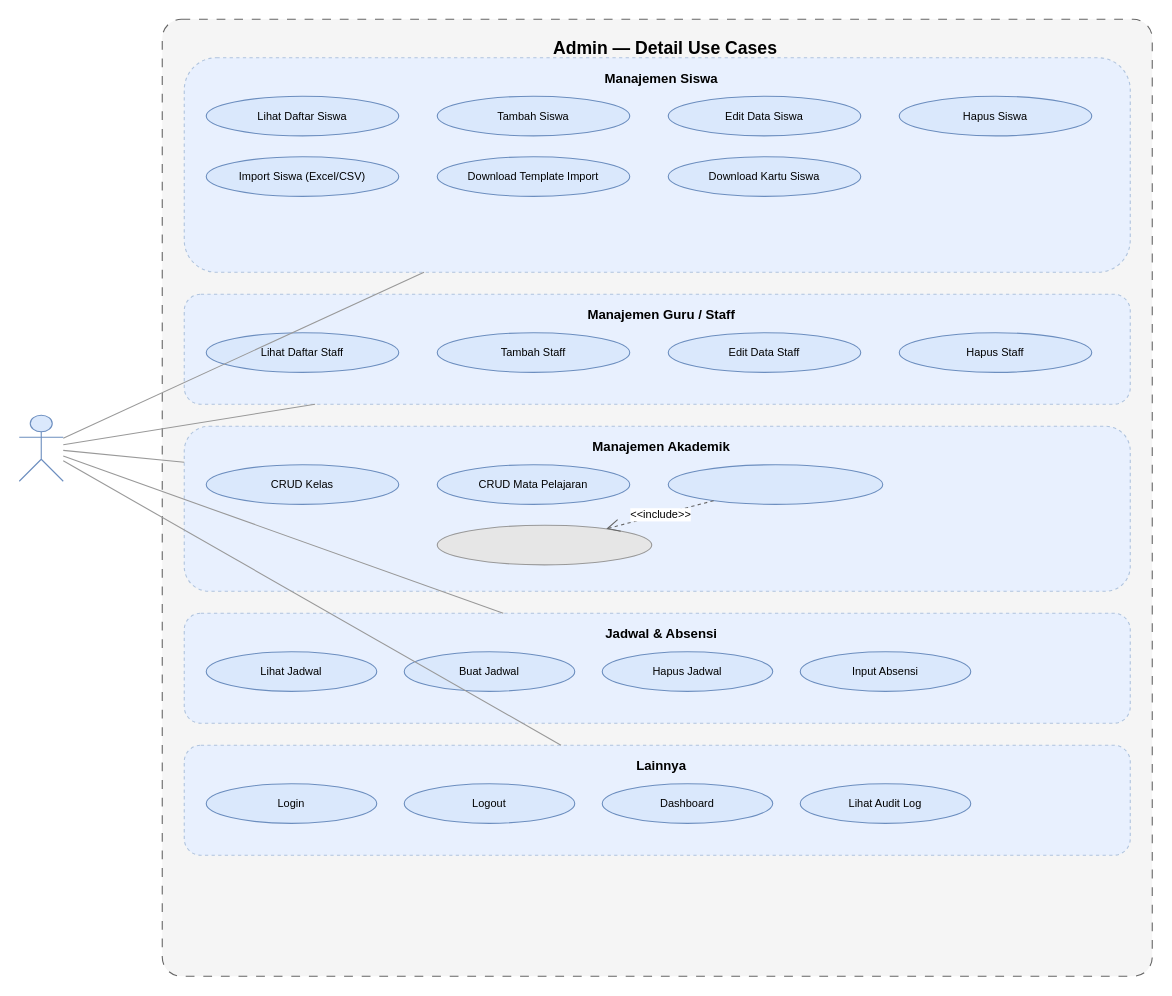
This 1172x996 diagram has some shape labels left out. Here are the shapes that lost their labels. From the top down, the centre of each, then its label:
(40,447): Admin
(775,484): CRUD Penugasan Mengajar
(544,544): Auto-Generate 16 Pertemuan
